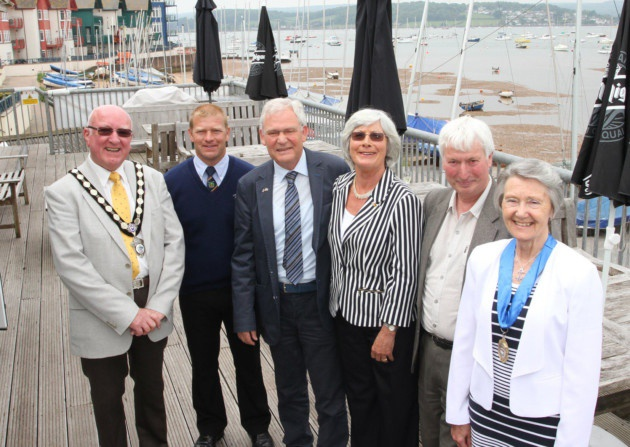head: (493, 159, 562, 237), (437, 114, 494, 193), (337, 108, 404, 171), (260, 97, 313, 165), (82, 103, 135, 168), (185, 105, 233, 156)
human: (46, 104, 179, 446), (231, 96, 355, 445), (160, 105, 280, 447), (462, 158, 596, 443), (330, 108, 420, 446), (414, 114, 503, 447)
